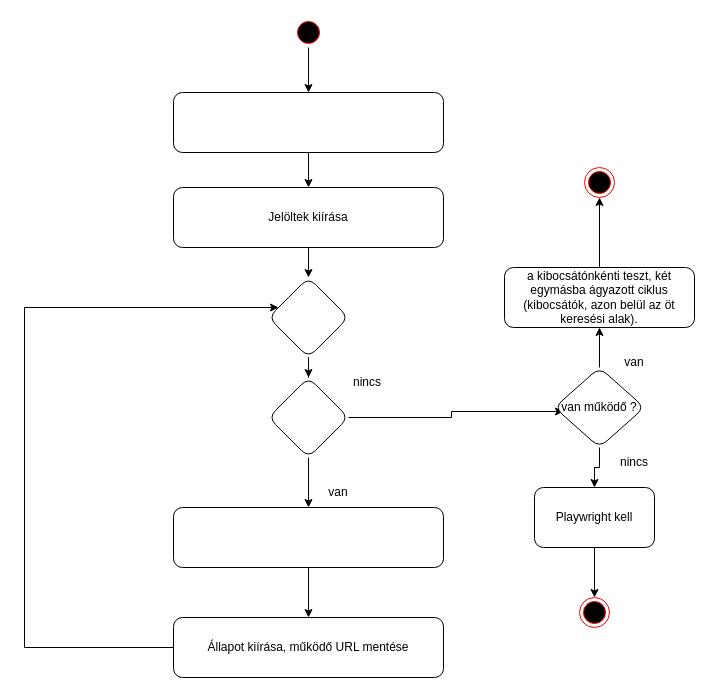
This 712x695 diagram has some shape labels left out. Here are the shapes that lost their labels. From the top down, the box of each, then its label:
(172, 92, 444, 152): Tokenek kinyerése
(268, 376, 348, 458): van jelölt?
(172, 506, 444, 568): Kérés küldése (_keres)
